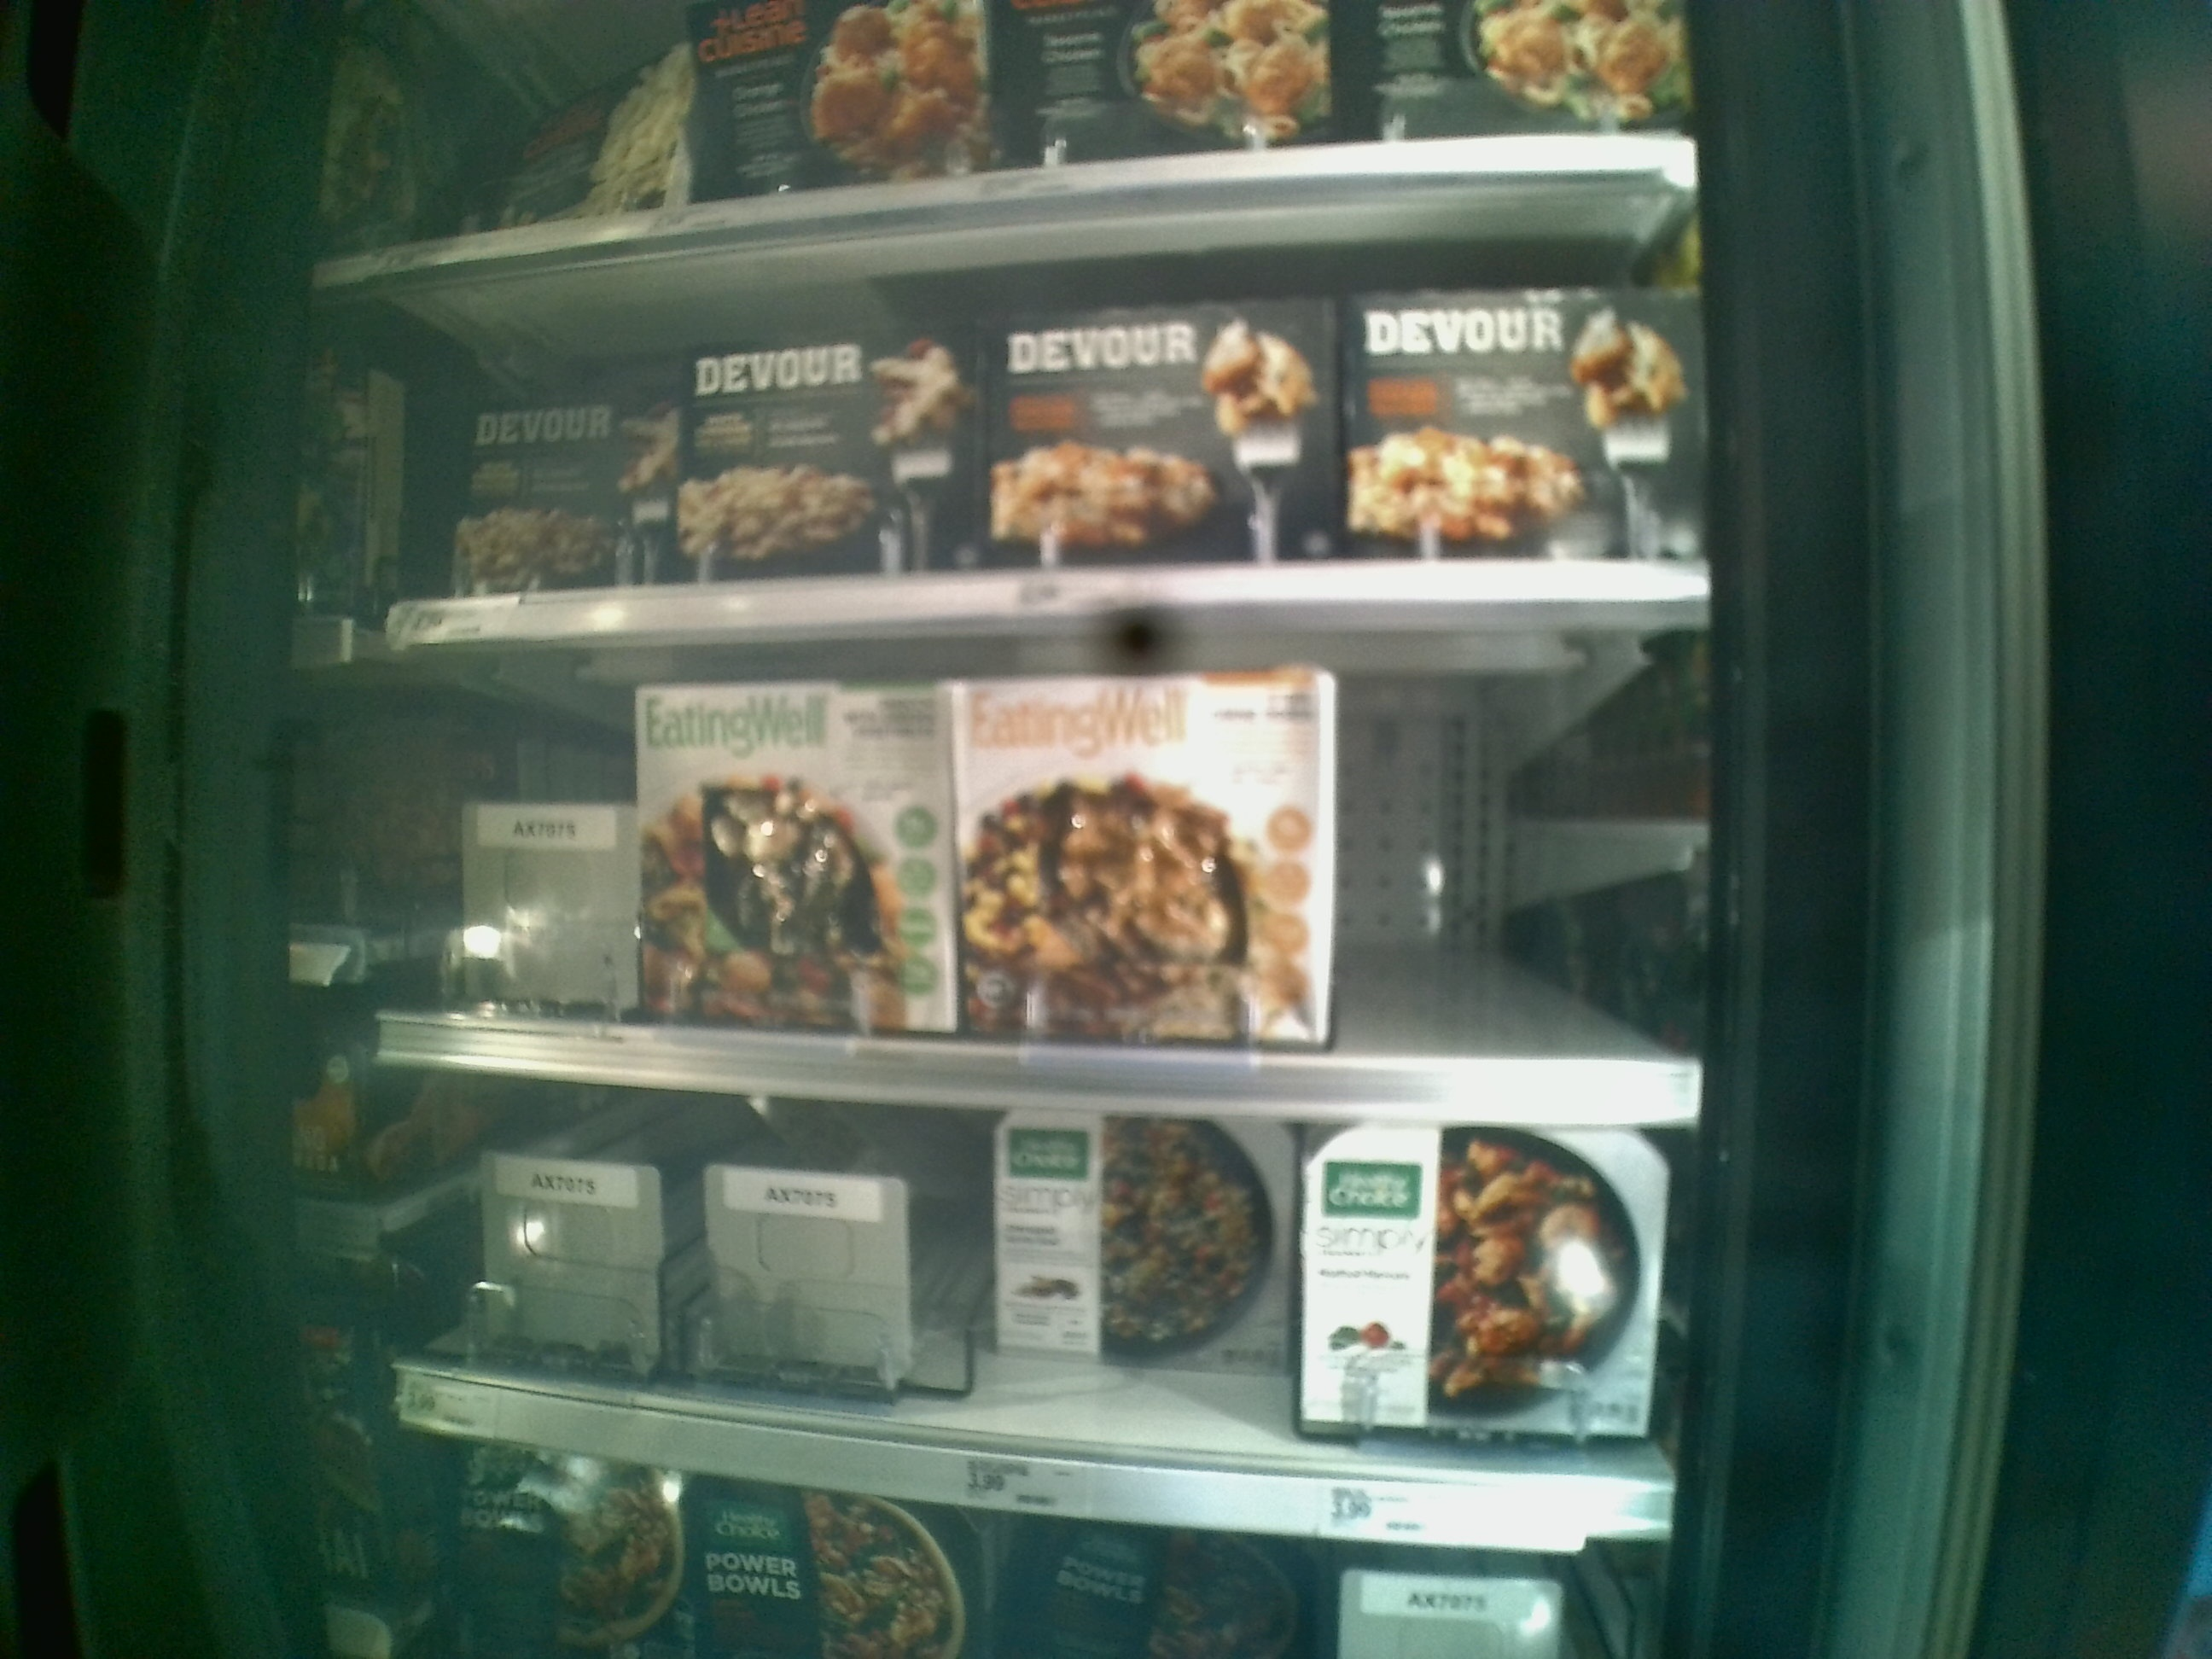shelf: (380, 603, 1702, 1127), (347, 176, 1695, 638)
